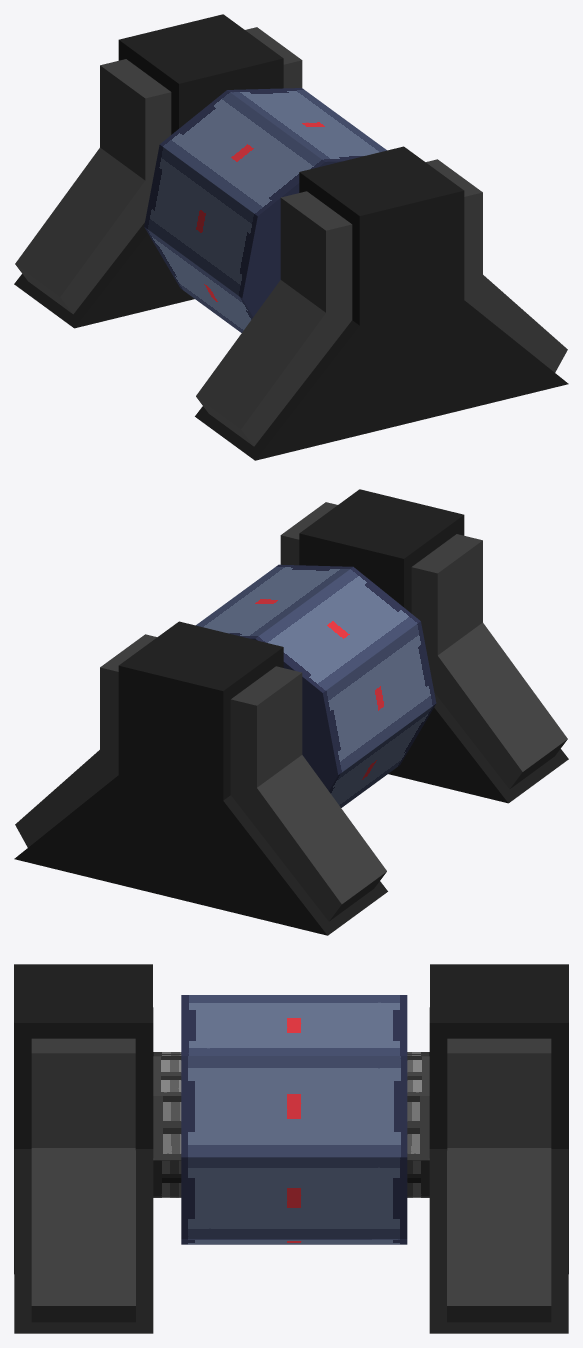
File: Generator.fbx
3 views of the same model, one above another, from view 1: azimuth 30°, elevation 25°; view 2: azimuth 150°, elevation 25°; view 3: azimuth 270°, elevation 25° (orthographic). The views are drawn at different scales.
Visible parts, largest first — view 1: Cube, Cube.001; view 2: Cube, Cube.001; view 3: Cube, Cube.001.
Boxes of the visible parts, x1,y1,x2,y2 form: Cube: (14,14,568,460); Cube.001: (144,88,386,332); Cube: (14,489,568,935); Cube.001: (196,564,436,807); Cube: (14,964,568,1333); Cube.001: (181,995,407,1244).
Bounding box in the file's own units: 313 × 200 × 399.
2 materials, 2 textured.
